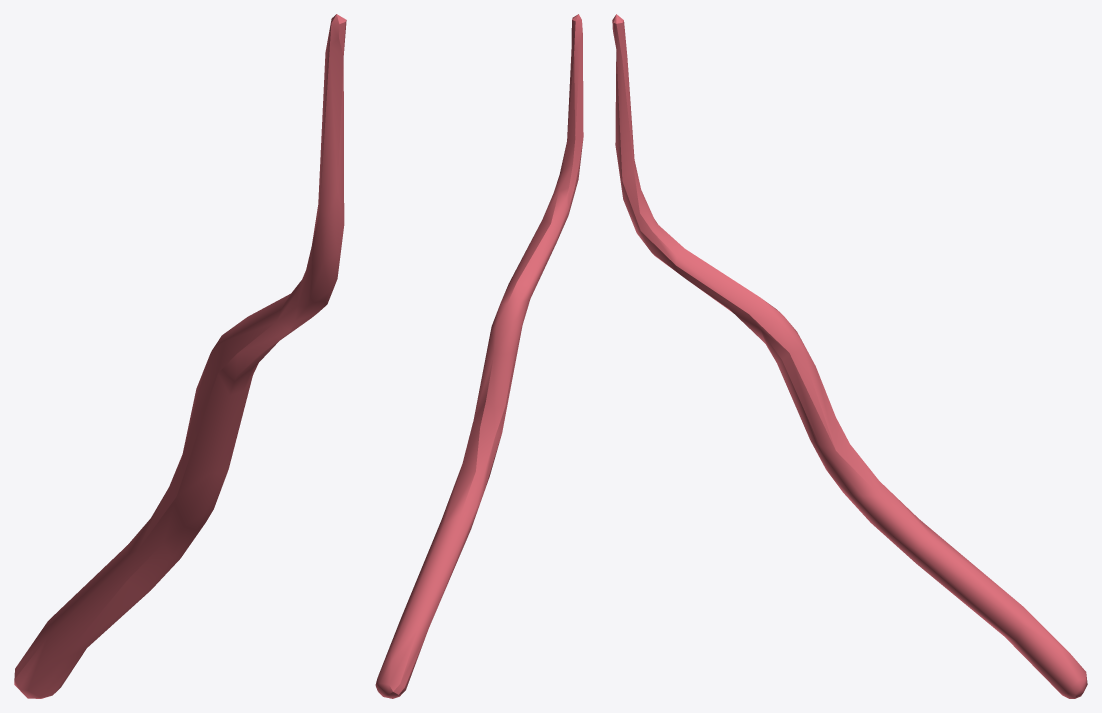
The model's file is fma51307_fj4684.glb.
3 views of the same model, side by side, from view 1: azimuth 30°, elevation 25°; view 2: azimuth 150°, elevation 25°; view 3: azimuth 270°, elevation 25° (orthographic). The views are drawn at different scales.
Visible parts, largest first — view 1: FMA51307_FJ4684; view 2: FMA51307_FJ4684; view 3: FMA51307_FJ4684.
Part boxes in pixels (bbox=[...]): FMA51307_FJ4684: bbox=[14, 14, 346, 698]; FMA51307_FJ4684: bbox=[375, 14, 583, 698]; FMA51307_FJ4684: bbox=[612, 14, 1087, 698].
Bounding box in the file's own units: 0.00143 × 0.0252 × 0.0159.
